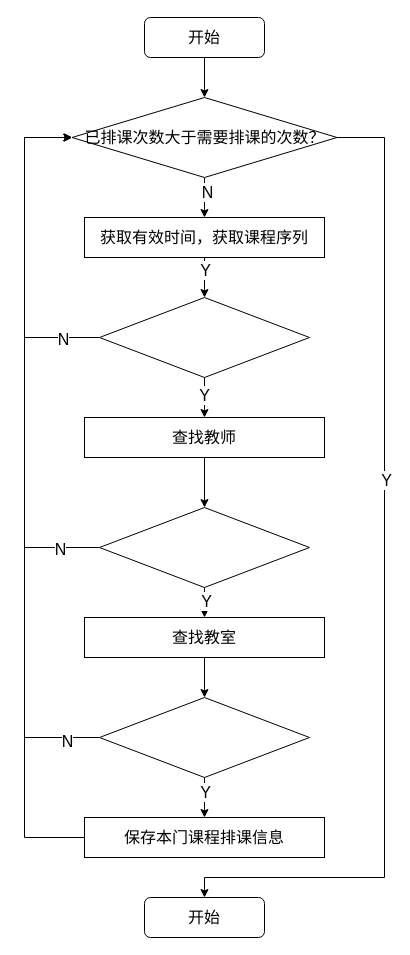
The diagram is 410 pixels wide and 955 high, and some of its shapes have lost their labels. The shapes that lost their labels are listed below. From the top down, each one's centre as x and y in pixels, then its label:
At (204,337): "有课程".
At (204,547): "有教师？".
At (204,737): "有教室？".
